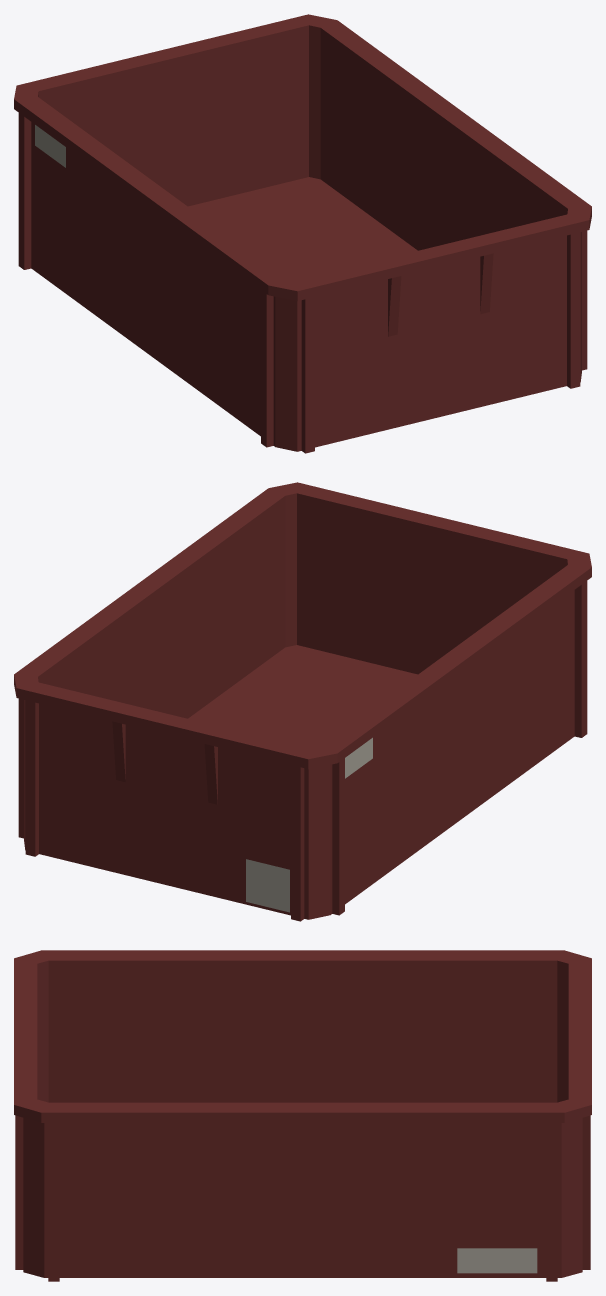
Rendered from SM_crate_3.gltf.
3 views of the same model, one above another, from view 1: azimuth 30°, elevation 25°; view 2: azimuth 150°, elevation 25°; view 3: azimuth 270°, elevation 25° (orthographic). The views are drawn at different scales.
Parts seen in each view (by area): view 1: SM_crate_3; view 2: SM_crate_3; view 3: SM_crate_3.
Boxes of the visible parts, x1,y1,x2,y2 form: SM_crate_3: [14, 14, 591, 453]; SM_crate_3: [14, 482, 591, 921]; SM_crate_3: [14, 950, 591, 1281].
Size of the model in its own units: 0.67 by 0.3262 by 1.01.
1 material, 1 textured.
